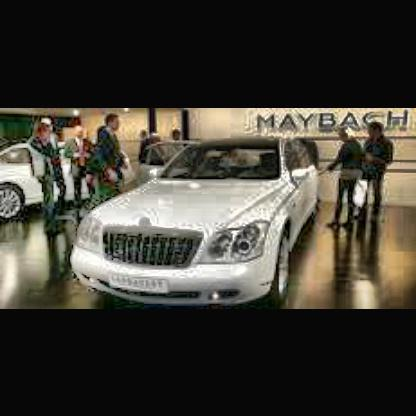Maybach Landaulet Convertible 2012: (69, 131, 321, 307)
